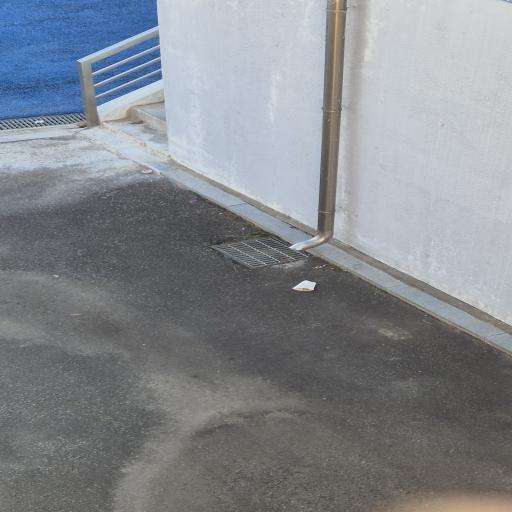drain: (211, 237, 309, 268)
